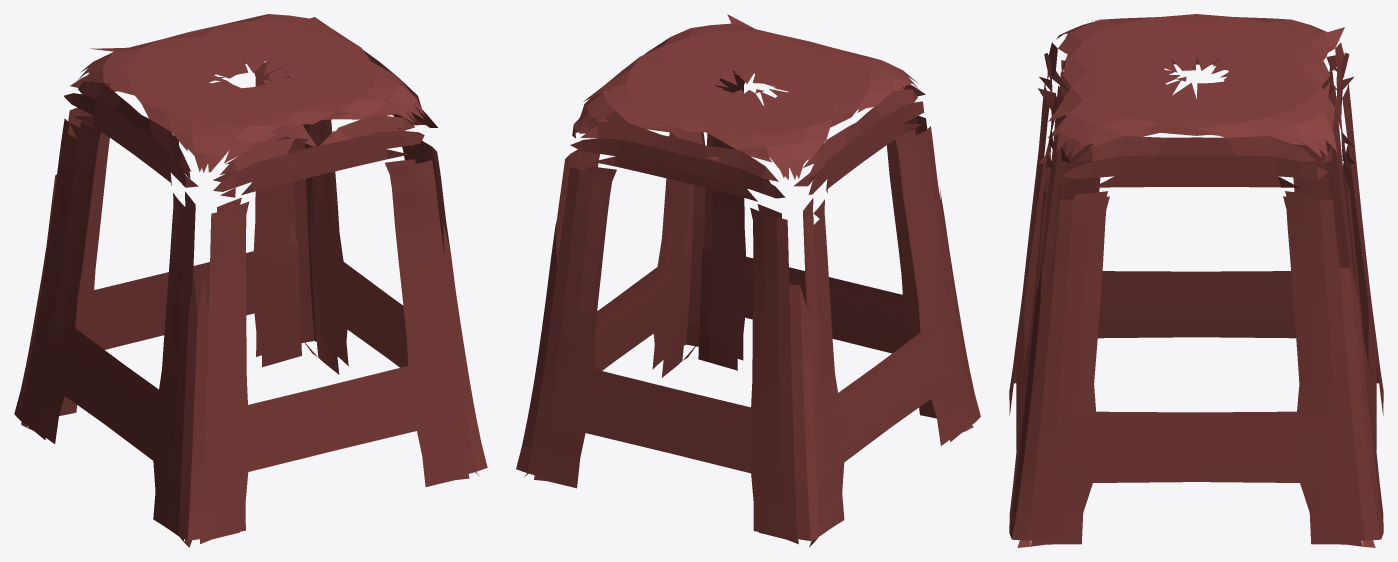
Rendered from chair-29.glb.
3 views of the same model, side by side, from view 1: azimuth 30°, elevation 25°; view 2: azimuth 150°, elevation 25°; view 3: azimuth 270°, elevation 25° (orthographic). The views are drawn at different scales.
Visible parts, largest first — view 1: Object_2; view 2: Object_2; view 3: Object_2.
Boxes of the visible parts, left/top/right/bottom form: Object_2: left=14, top=14, right=487, bottom=547; Object_2: left=516, top=14, right=980, bottom=547; Object_2: left=1009, top=14, right=1383, bottom=547.
Bounding box in the file's own units: 3.61 × 4.29 × 3.61.
